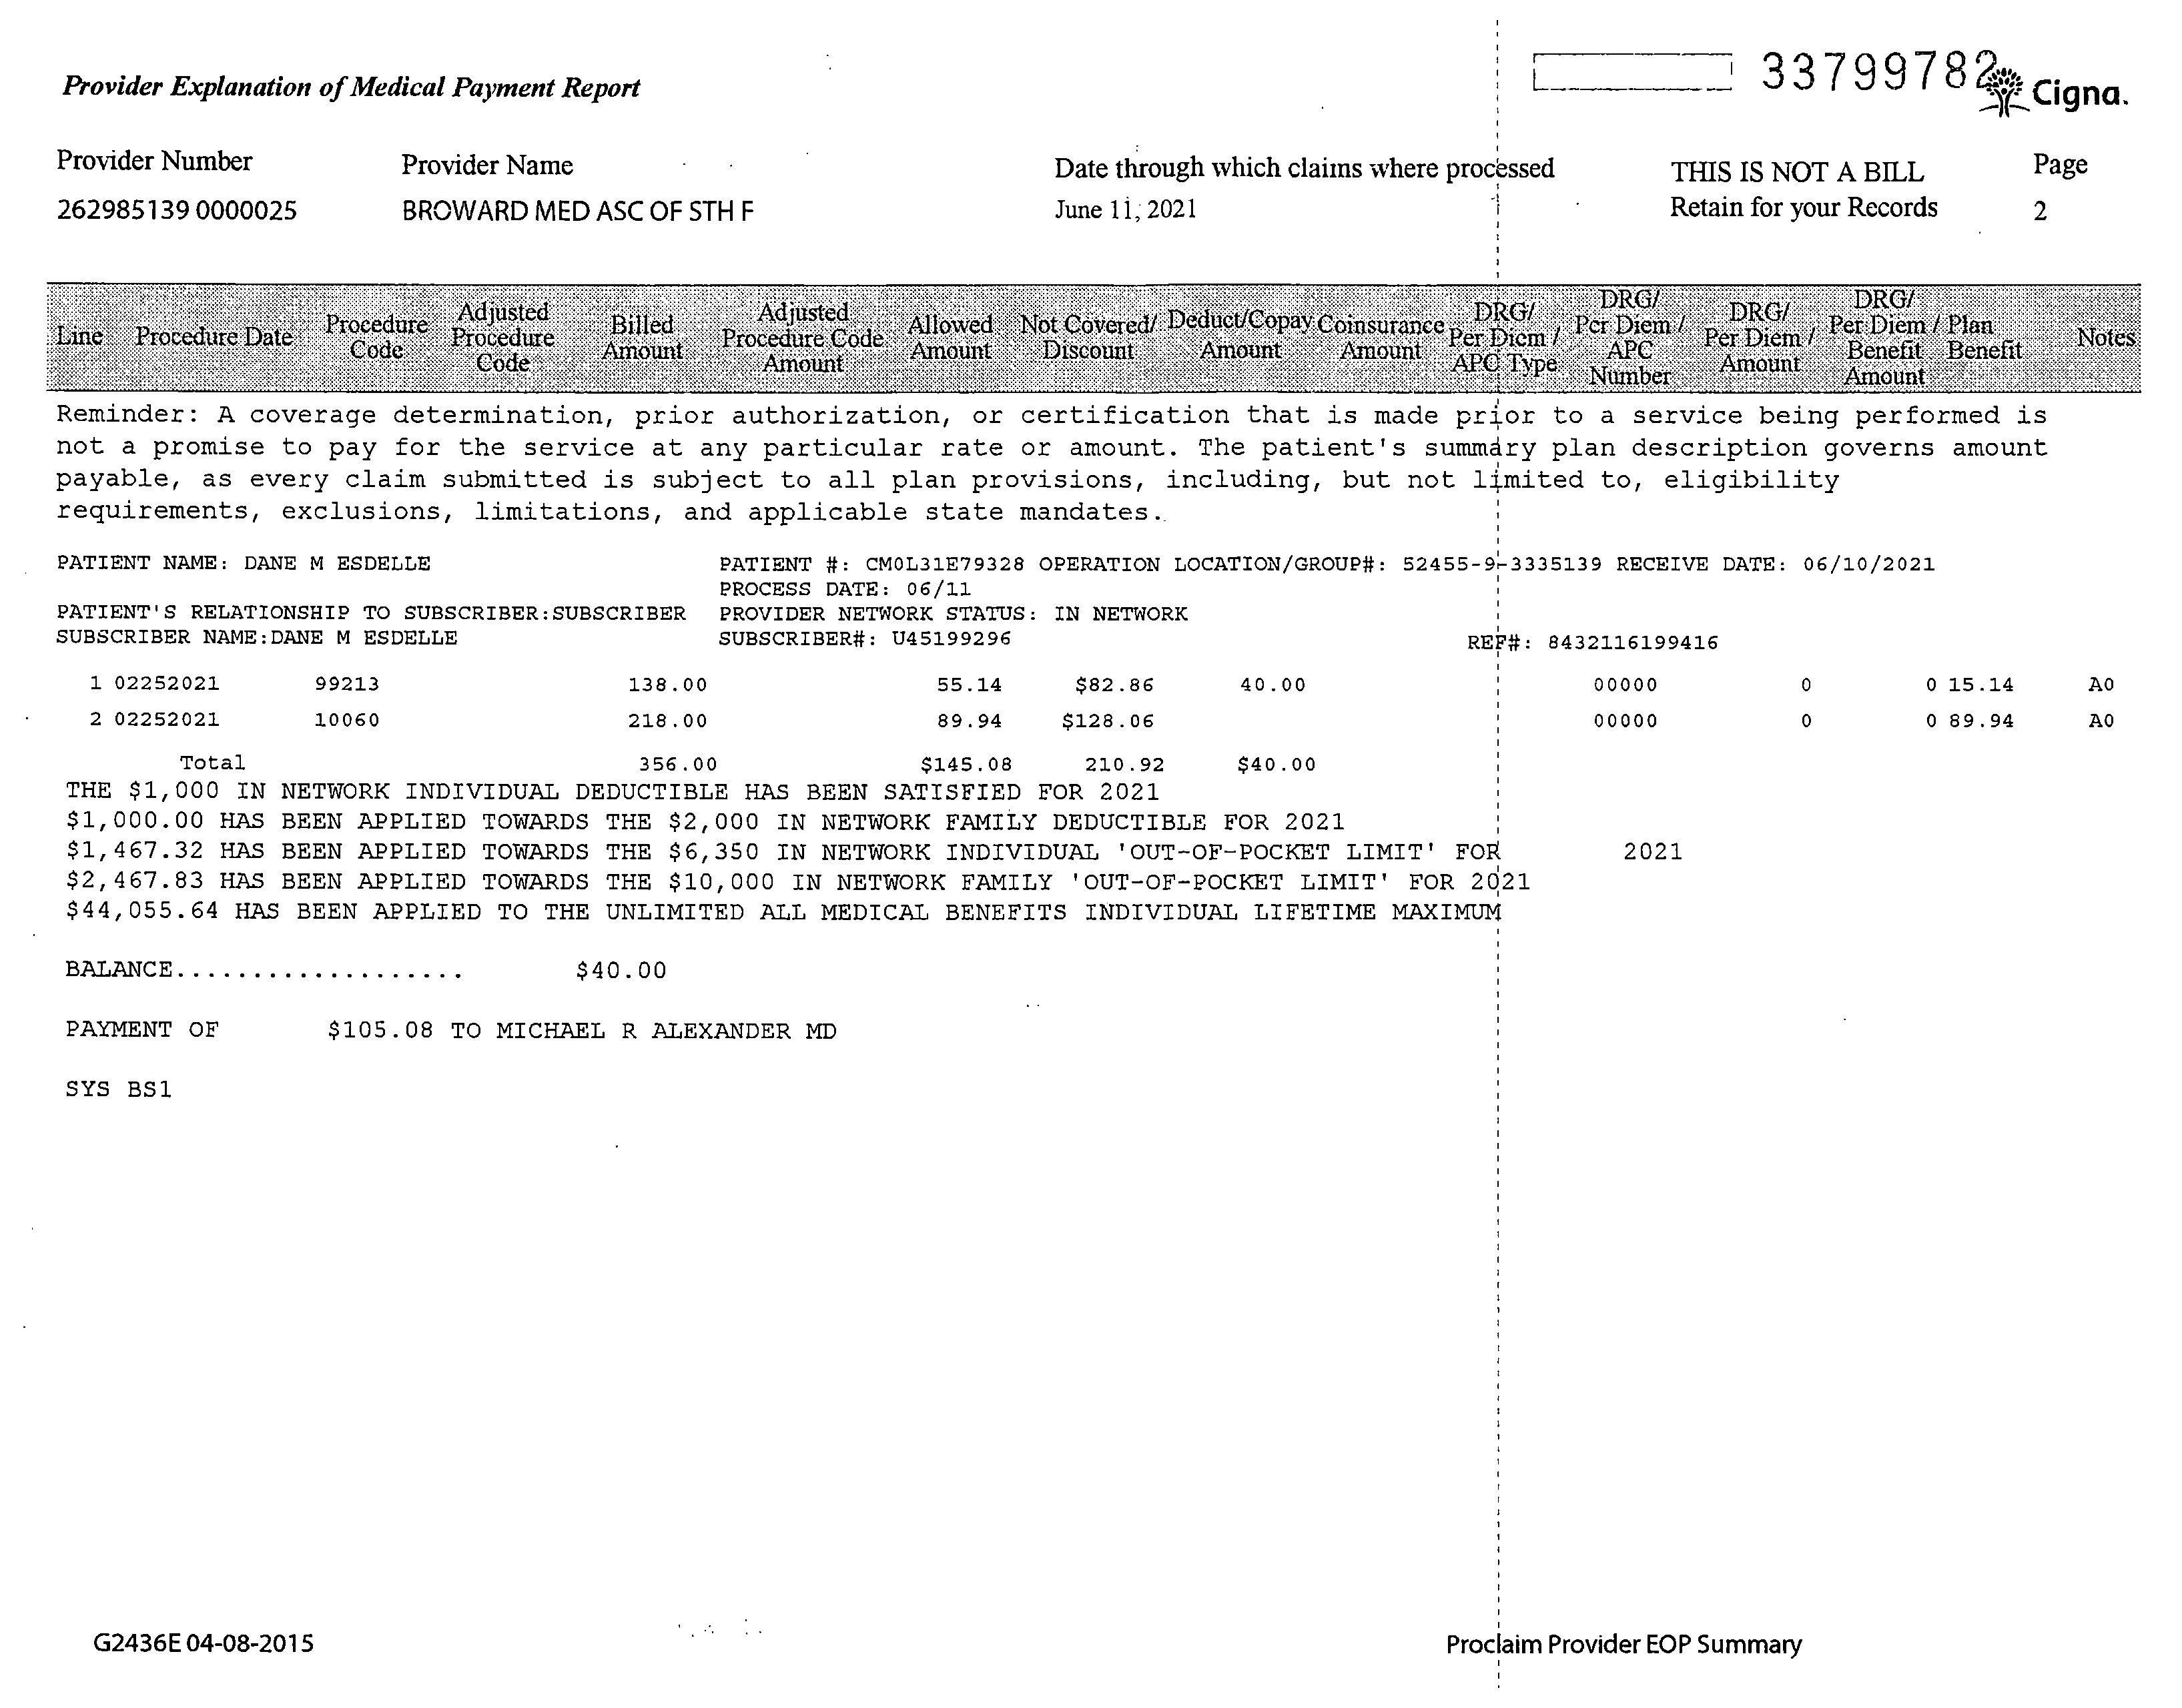data: (46, 140, 758, 239)
